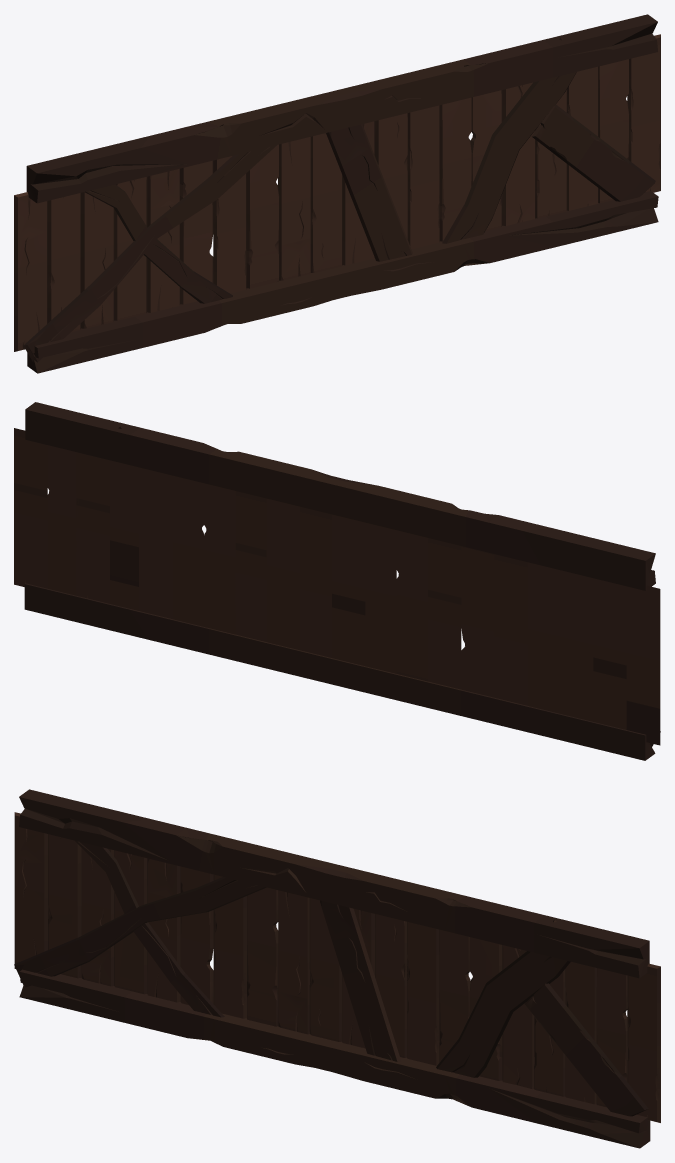
The model's file is SM_frontPanel01.fbx.
3 views of the same model, one above another, from view 1: azimuth 30°, elevation 25°; view 2: azimuth 150°, elevation 25°; view 3: azimuth 330°, elevation 25° (orthographic).
Parts seen in each view (by area): view 1: SM_frontPanel01; view 2: SM_frontPanel01; view 3: SM_frontPanel01.
Boxes of the visible parts, <box> form: SM_frontPanel01: <box>14,14,660,373</box>; SM_frontPanel01: <box>14,402,660,760</box>; SM_frontPanel01: <box>14,789,660,1148</box>.
Bounding box in the file's own units: 374 × 112 × 10.31.
